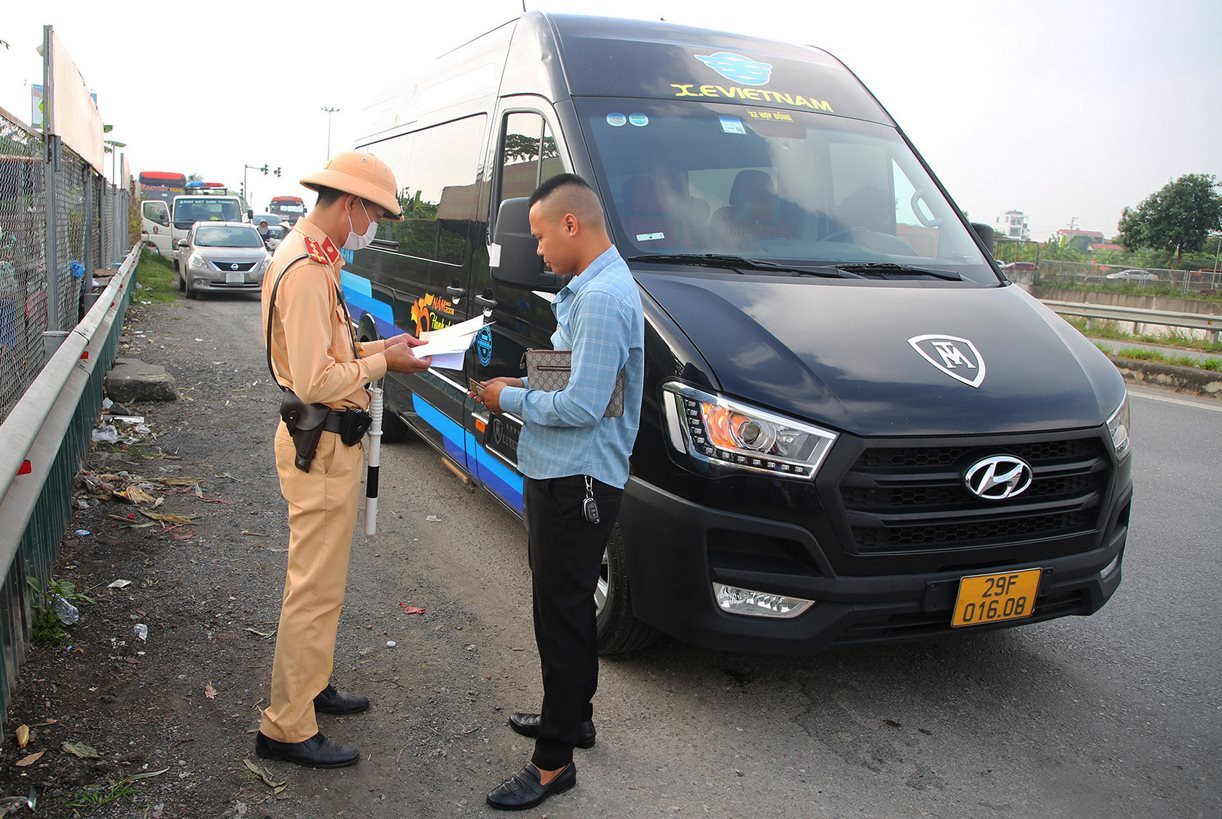oto: (176, 198, 269, 298)
xe_khach: (330, 14, 1161, 709)
